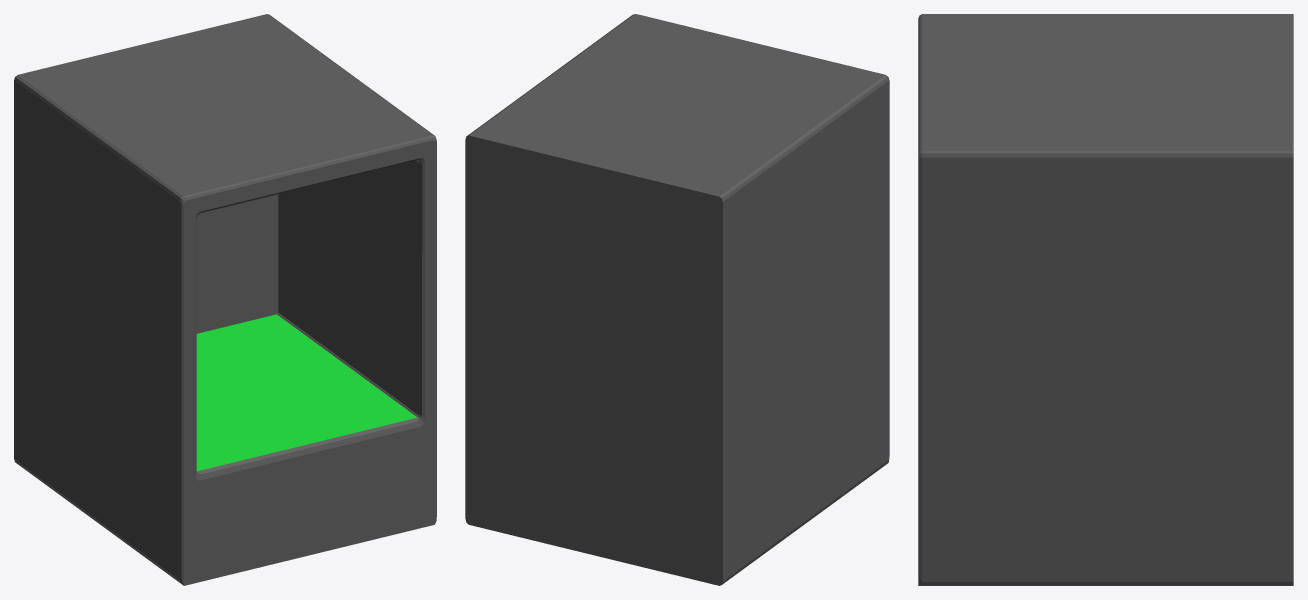
Rendered from ConveyorBox.fbx.
3 views of the same model, side by side, from view 1: azimuth 30°, elevation 25°; view 2: azimuth 150°, elevation 25°; view 3: azimuth 270°, elevation 25° (orthographic). The views are drawn at different scales.
Visible parts, largest first — view 1: Cube; view 2: Cube; view 3: Cube.
Part boxes in pixels (x1,y1,x2,y2): Cube: (14, 14, 436, 585); Cube: (465, 14, 889, 585); Cube: (918, 14, 1293, 585).
Size of the model in its own units: 141 by 204 by 160.
